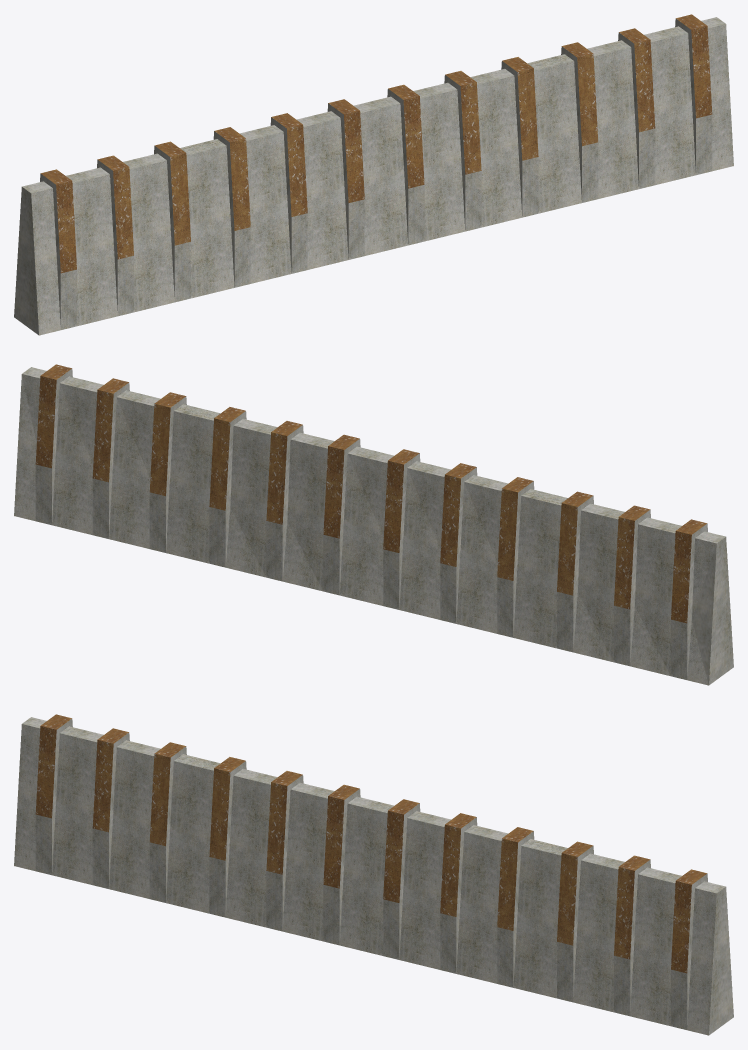
File: mun_all_military_wall_med_rebl_32_s01_l1.fbx
3 views of the same model, one above another, from view 1: azimuth 30°, elevation 25°; view 2: azimuth 150°, elevation 25°; view 3: azimuth 330°, elevation 25° (orthographic).
Visible parts, largest first — view 1: mesh_node; view 2: mesh_node; view 3: mesh_node.
Part boxes in pixels (x1,y1,x2,y2): mesh_node: (14,14,733,335); mesh_node: (14,364,733,685); mesh_node: (14,714,733,1035).
Bounding box in the file's own units: 32 × 6.25 × 2.
